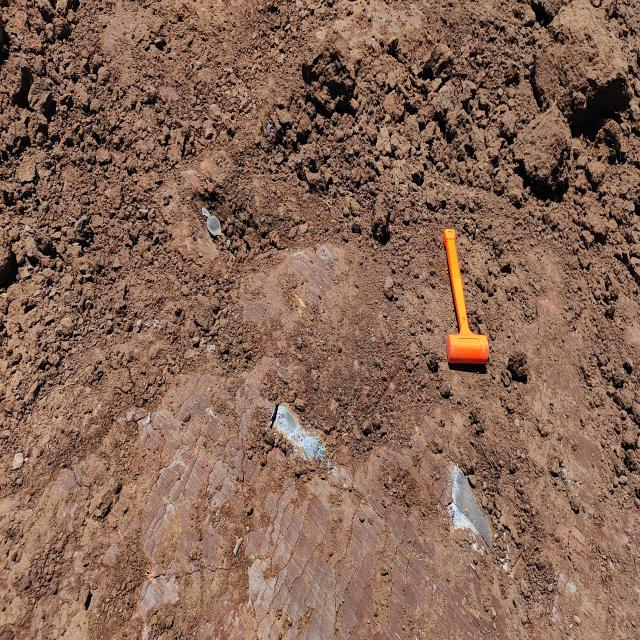Orange_hammer: (442, 227, 490, 366)
